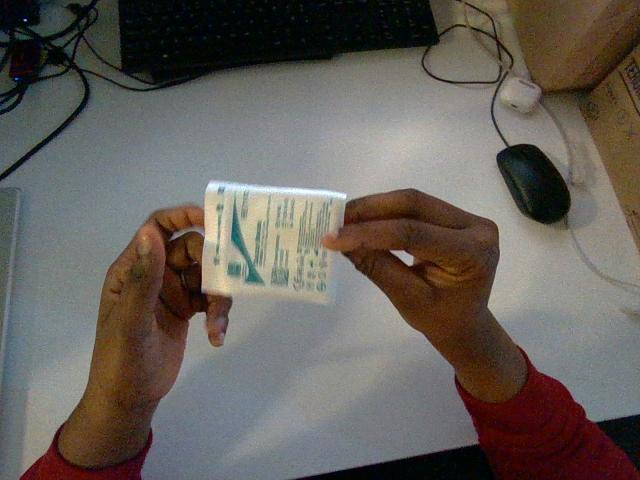gauze: (202, 181, 345, 303)
